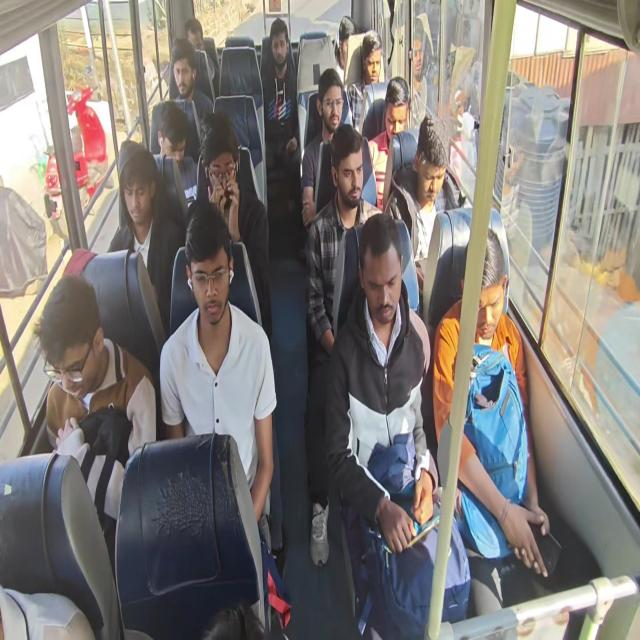person: (31, 9, 557, 637), (324, 212, 471, 638), (158, 198, 278, 553), (432, 221, 550, 578), (33, 272, 157, 575), (304, 123, 383, 567), (195, 111, 272, 340), (107, 146, 183, 338), (385, 114, 449, 278), (260, 18, 301, 256), (300, 68, 352, 231), (365, 76, 412, 210), (168, 38, 214, 163), (151, 101, 198, 208), (348, 29, 385, 132), (184, 17, 217, 101), (408, 20, 428, 130), (334, 15, 357, 85)
